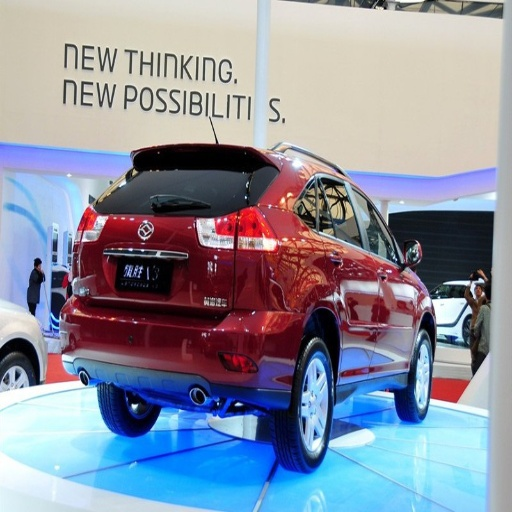_background_: (94, 255, 305, 408)
back_bumper: (96, 150, 272, 213)
back_left_light: (319, 172, 380, 374)
back_right_door: (237, 208, 277, 255)
front_left_light: (350, 185, 412, 365)
tailgate: (71, 214, 235, 370)
trunk: (280, 324, 334, 470), (396, 327, 433, 422), (99, 389, 157, 436)
